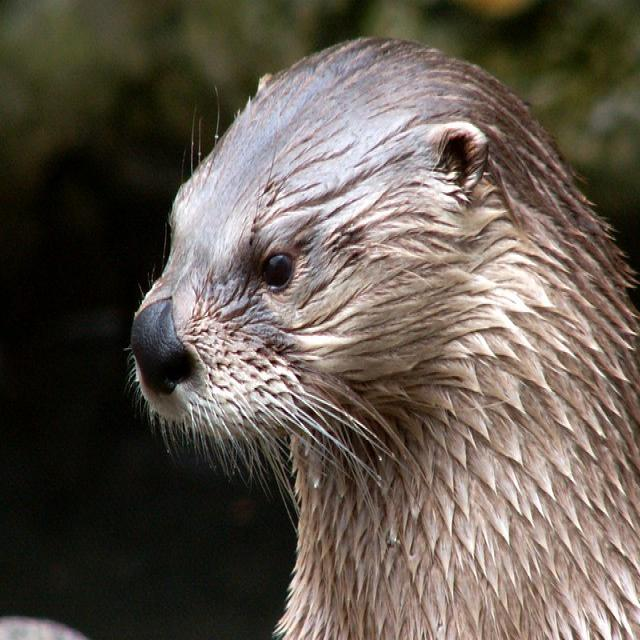otter: (132, 39, 640, 640)
